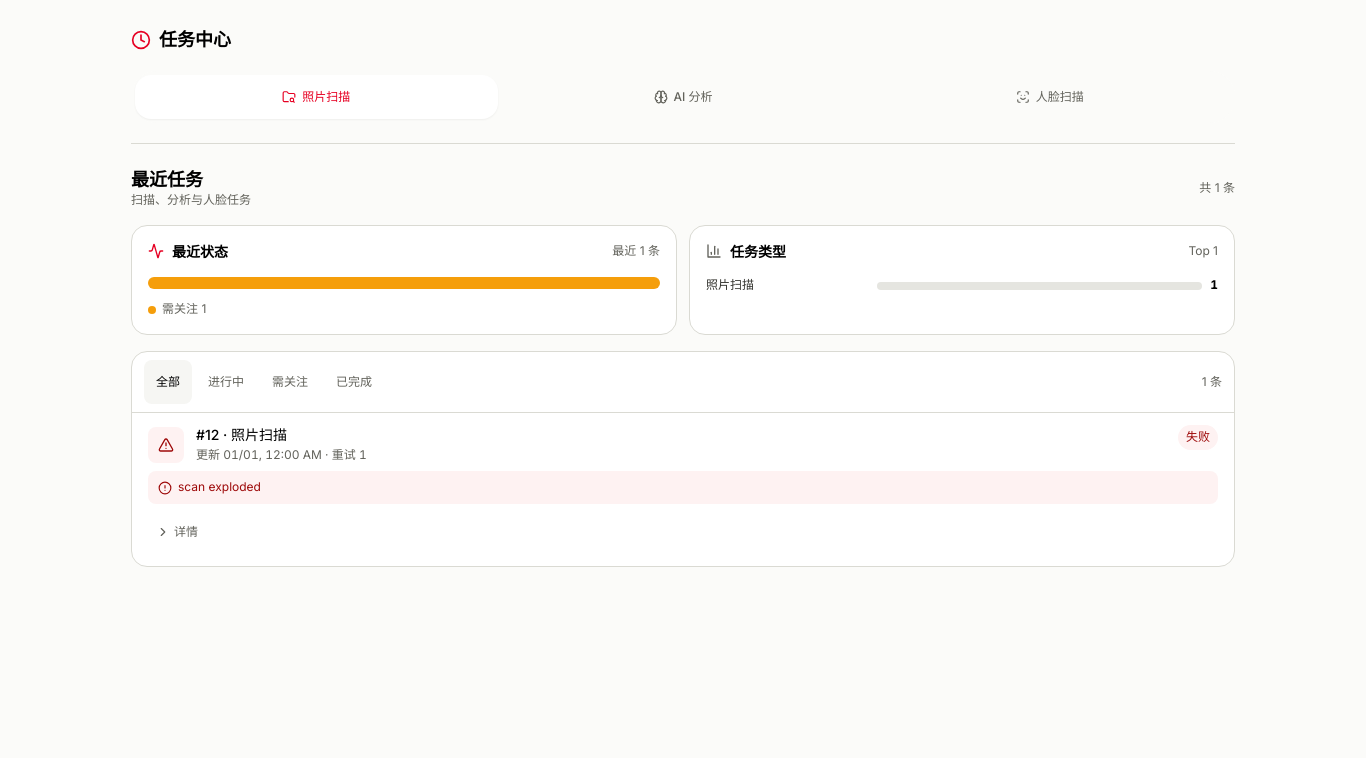
Test: TasksPage › shows expandable project task diagnostics
Expected: the text "#12 · 照片扫描" is shown, [196, 426, 287, 443]
Expected: the picture named "最近任务状态" is shown, [148, 277, 660, 289]
Click the button "详情" at point(177, 532), box [148, 510, 206, 554]
(page scrolled)
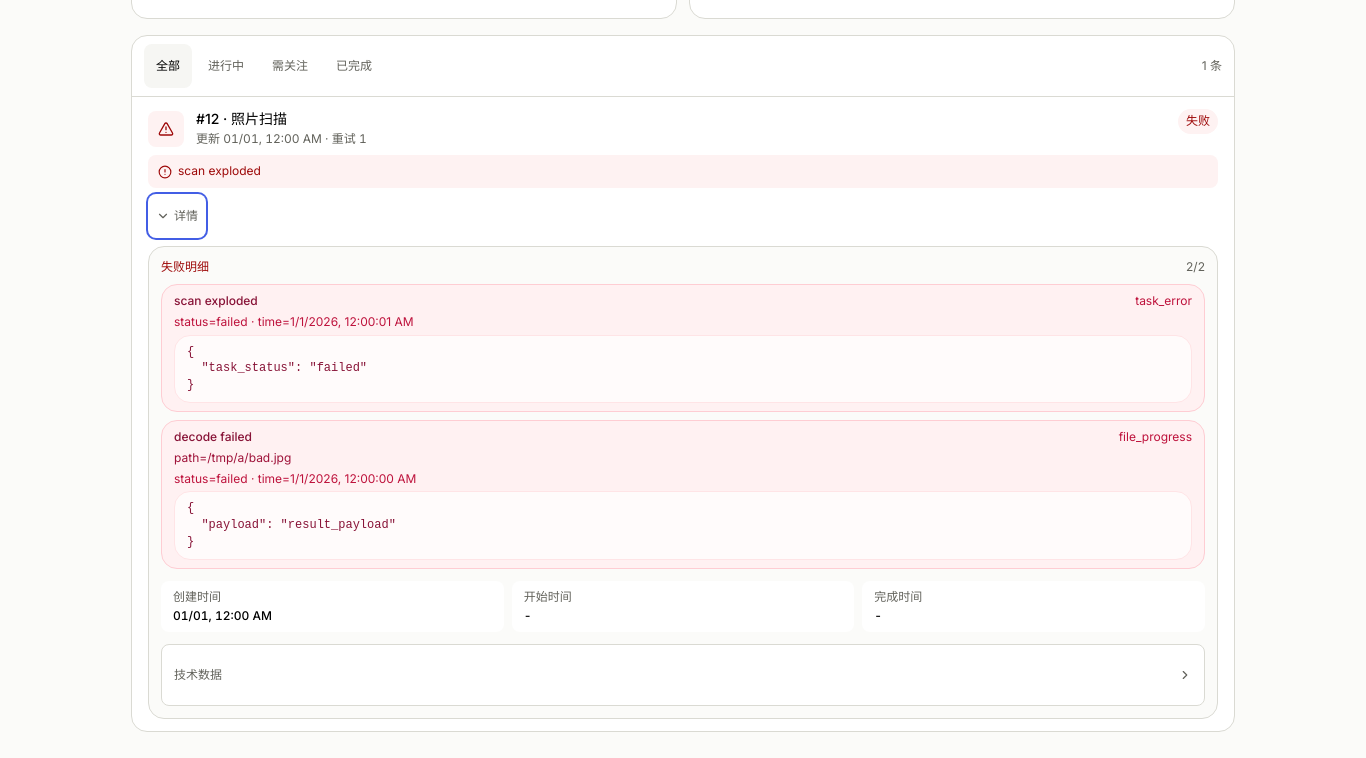
Expected: the text "失败明细" is shown, [161, 259, 209, 276]
Expected: the text "scan exploded" is shown 2 times, [178, 163, 261, 180]; [174, 293, 258, 310]
Expected: the text "path=/tmp/a/bad.jpg" is shown, [174, 450, 291, 465]
Click the heading "技术数据" at point(198, 674), box [174, 667, 1192, 682]
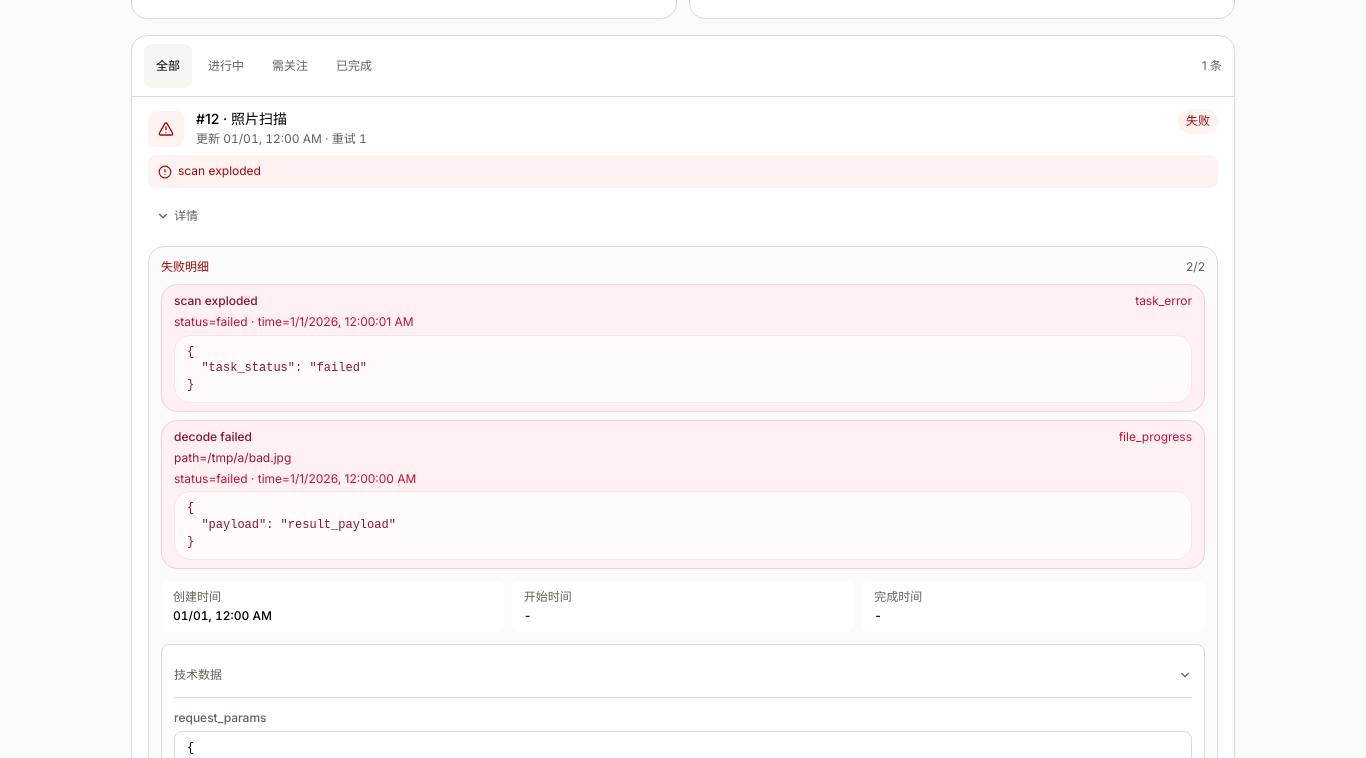
Expected: the text "request_params" is shown, [174, 710, 266, 725]
Click the button "需关注" at point(290, 66), box [260, 44, 320, 88]
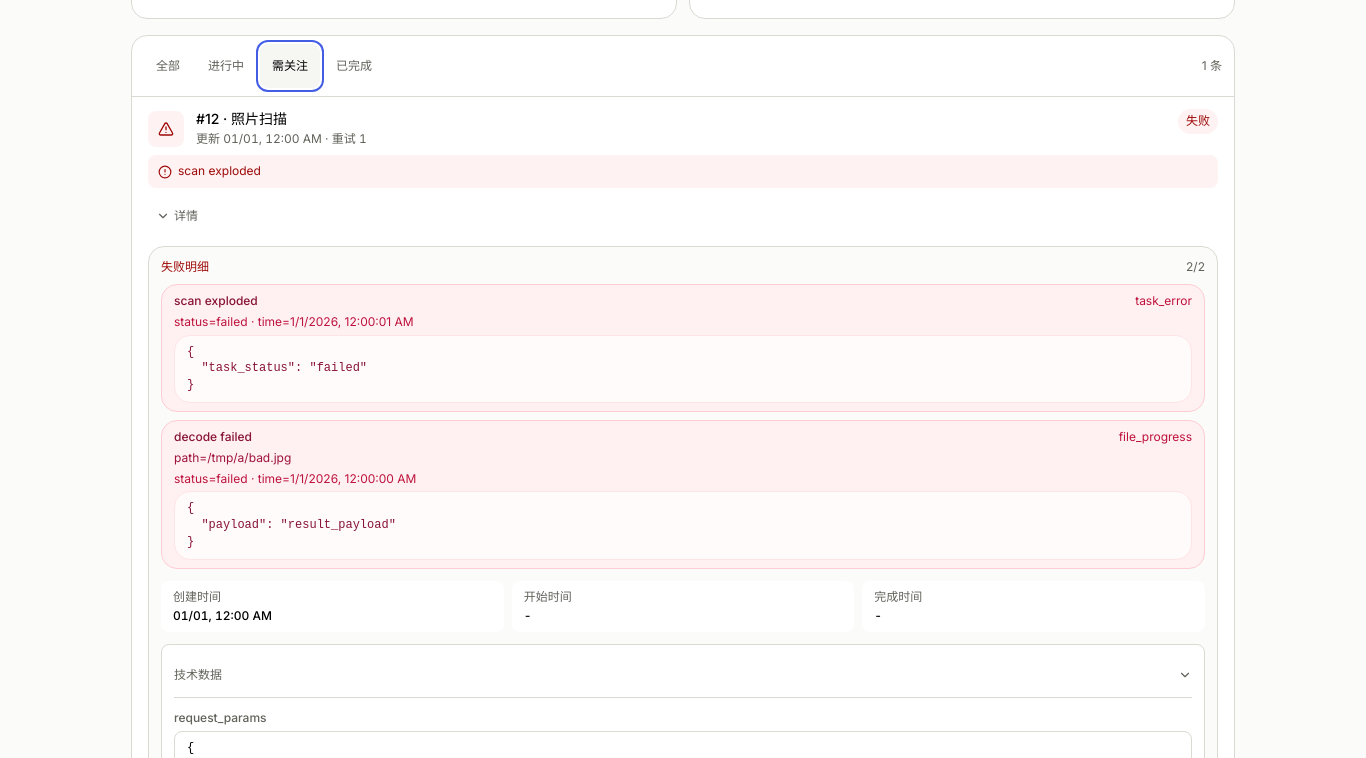
Expected: the text "#12 · 照片扫描" is shown, [196, 110, 287, 127]
Click the button "已完成" at point(354, 66), box [324, 44, 384, 88]
(page scrolled)
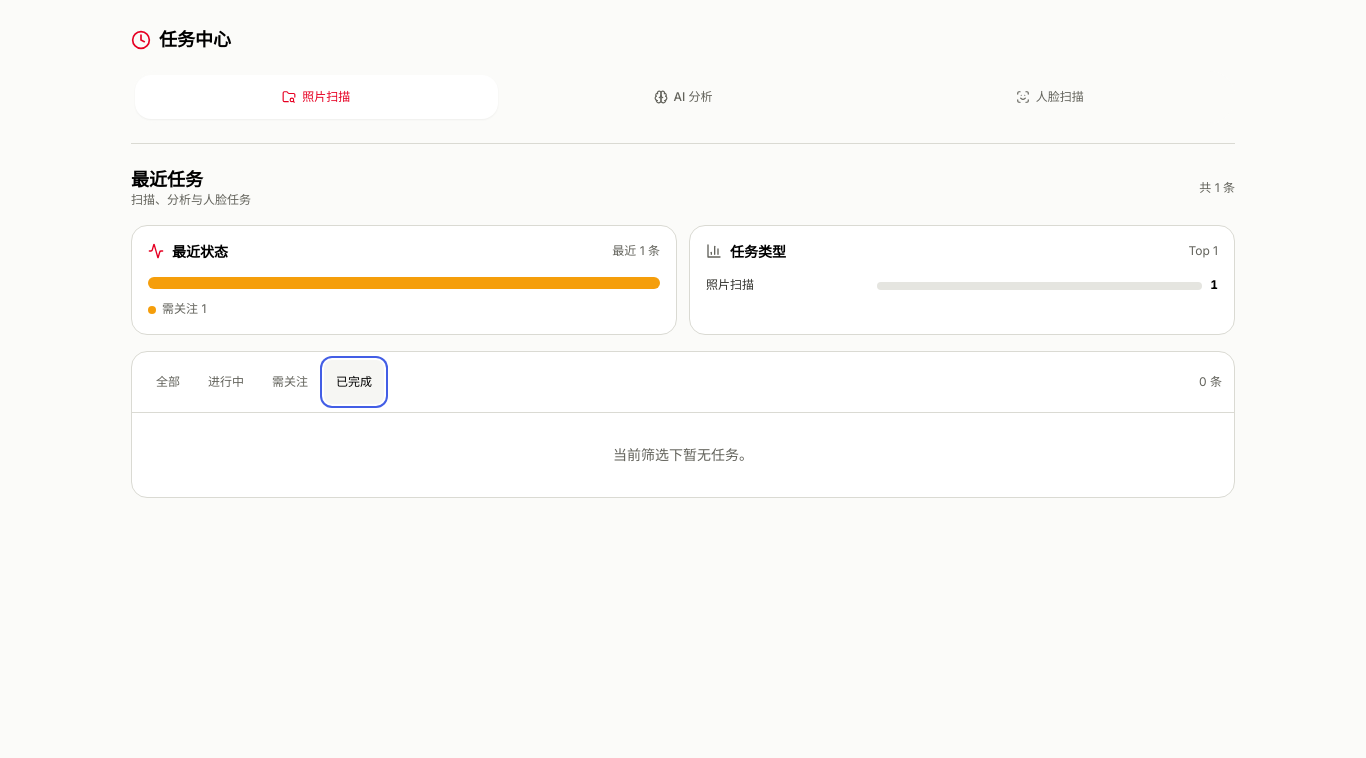
Expected: the text "#12 · 照片扫描" is gone
Expected: the text "当前筛选下暂无任务。" is shown, [613, 446, 753, 463]
